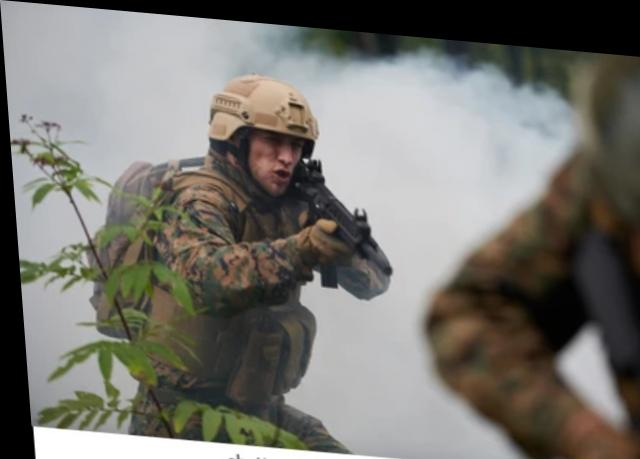other: (81, 63, 377, 402)
